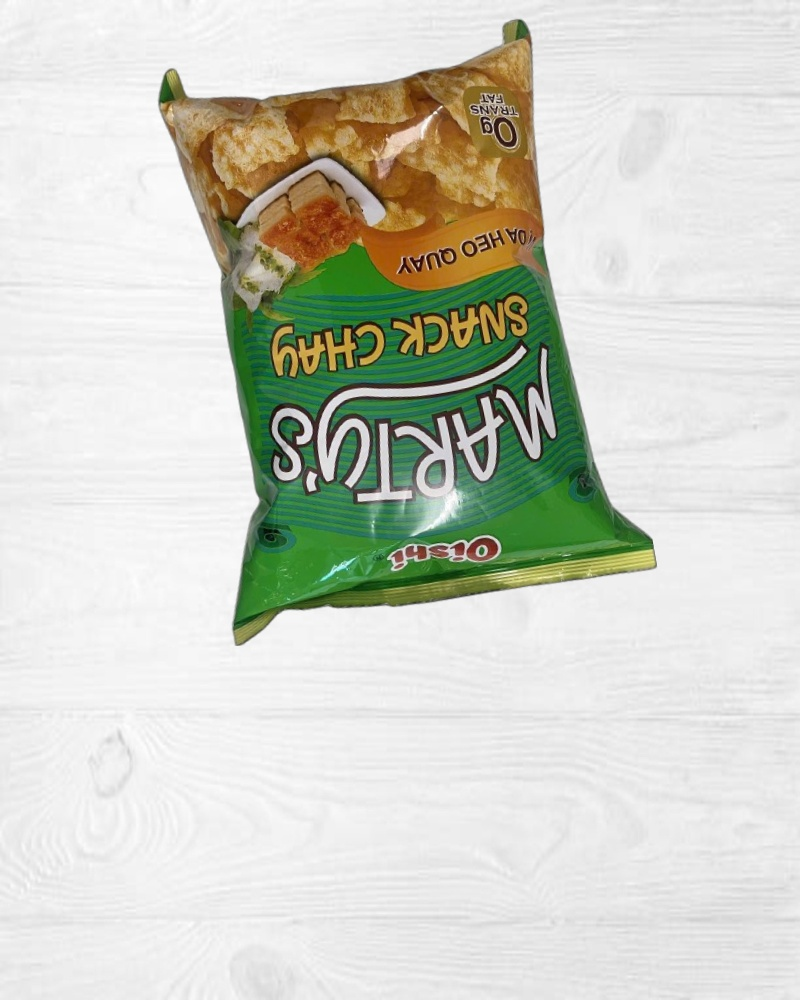Snack chay: (156, 3, 657, 643)
